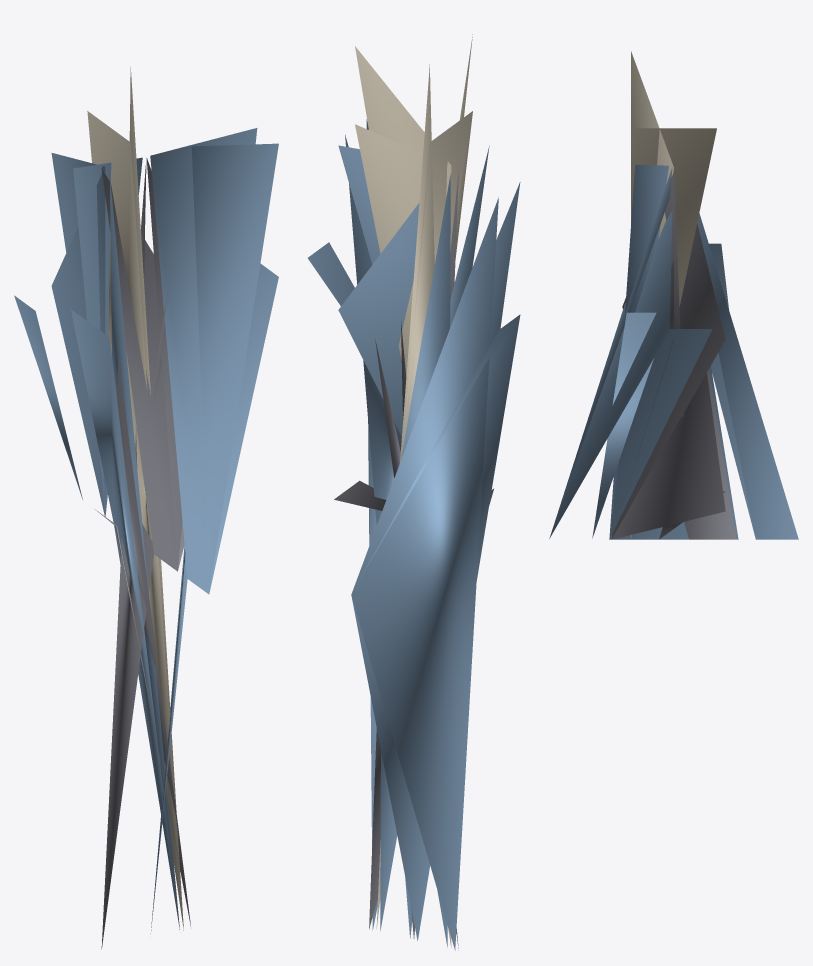
Rendered from player_walk.glb.
3 renders of one model, left to right at view 1: azimuth 30°, elevation 25°; view 2: azimuth 150°, elevation 25°; view 3: azimuth 270°, elevation 25°, orthographic.
Parts seen in each view (by area): view 1: player_walk_node; view 2: player_walk_node; view 3: player_walk_node.
Part boxes in pixels (box(x1,y1,x2,y2)): player_walk_node: box(14, 67, 278, 949); player_walk_node: box(308, 34, 520, 950); player_walk_node: box(549, 51, 798, 539).
Size of the model in its own units: 0.58 by 2.3 by 0.58.
